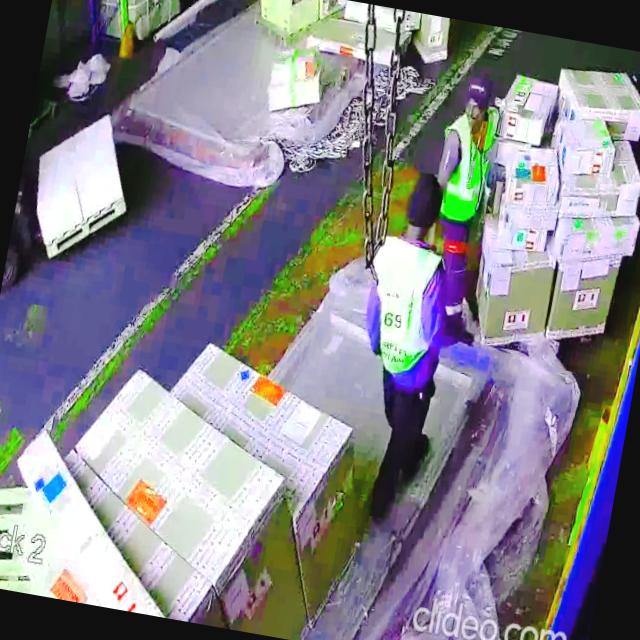Box: (466, 239, 560, 350), (540, 252, 622, 346), (500, 140, 570, 212), (559, 213, 640, 272), (562, 64, 640, 125), (264, 46, 329, 117), (563, 172, 640, 230), (548, 120, 616, 179), (500, 74, 552, 142)
